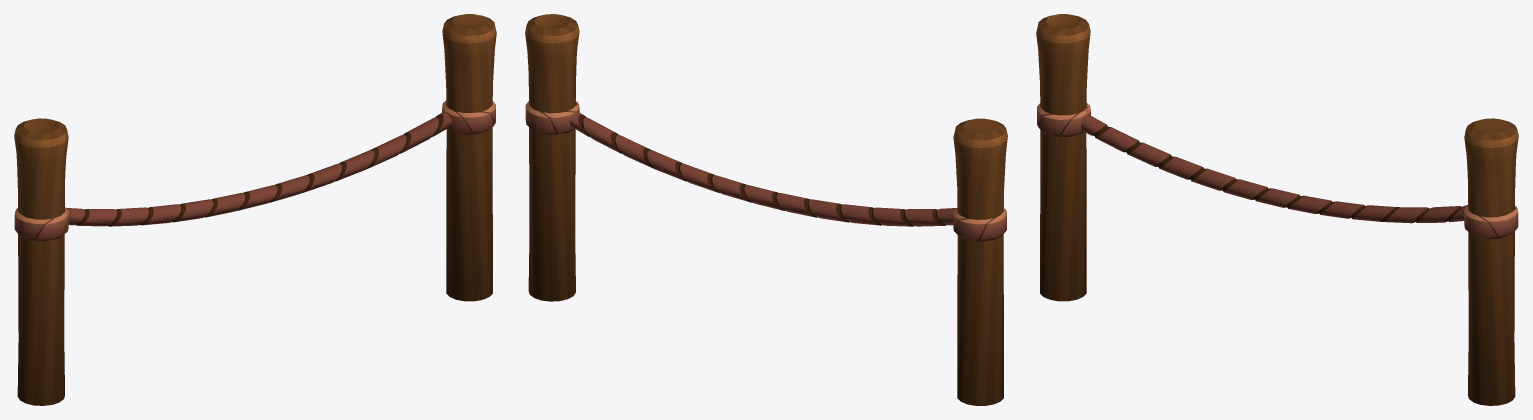
Rendered from Deco-2-1.fbx.
3 renders of one model, left to right at view 1: azimuth 30°, elevation 25°; view 2: azimuth 150°, elevation 25°; view 3: azimuth 330°, elevation 25°, orthographic.
Visible parts, largest first — view 1: Deco-2-1; view 2: Deco-2-1; view 3: Deco-2-1.
Boxes of the visible parts, x1=… form: Deco-2-1: x1=14, y1=14, x2=496, y2=405; Deco-2-1: x1=525, y1=14, x2=1007, y2=405; Deco-2-1: x1=1036, y1=14, x2=1518, y2=405.
Size of the model in its own units: 337 by 183 by 33.45.
